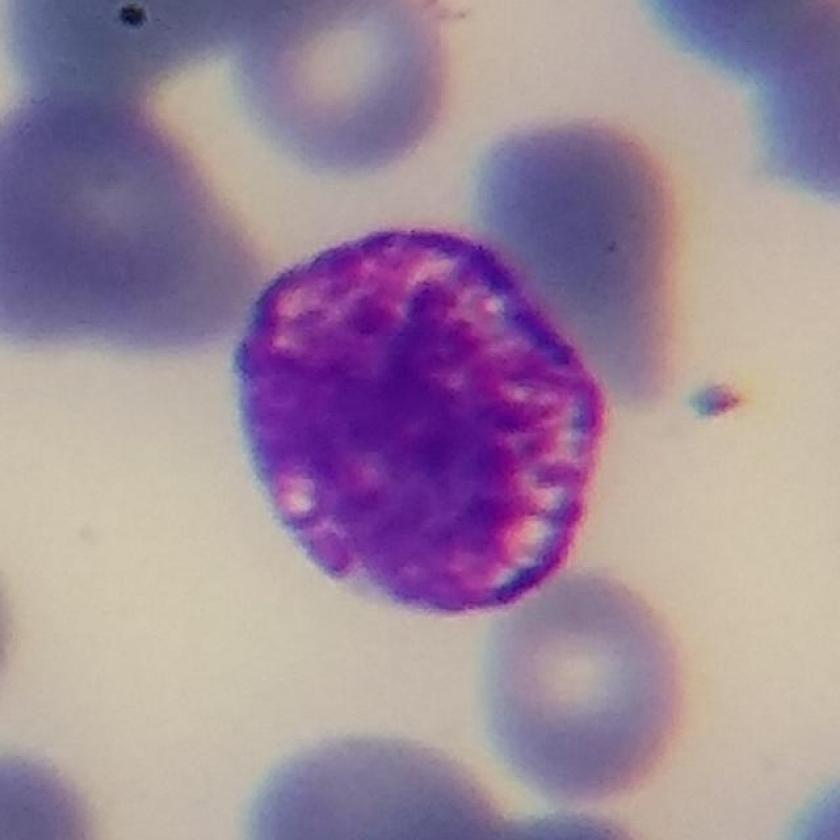basophil: (225, 207, 622, 625)
